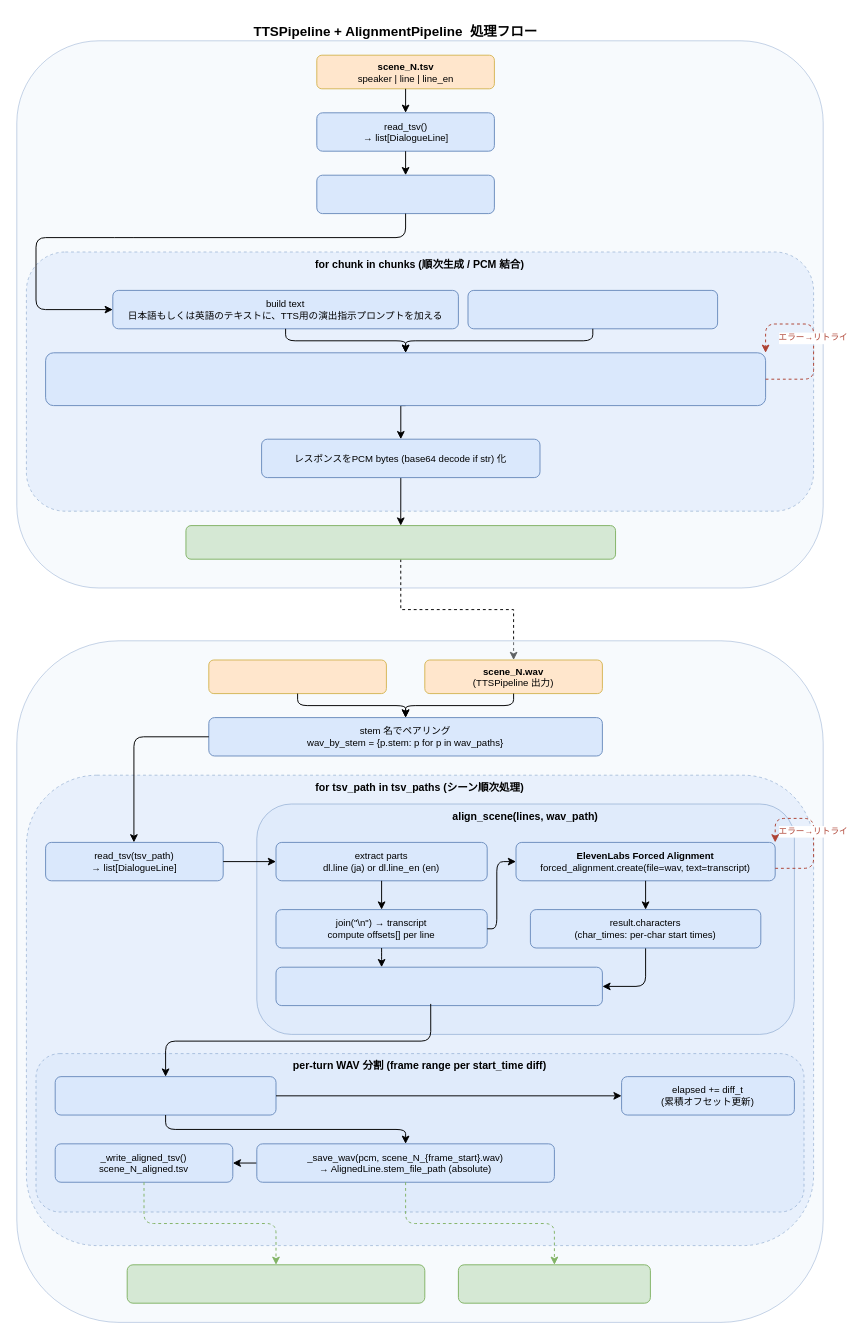
Image size: 866x1339. Some labels were removed from this diagram. The centre of each missing label's shape, as x and y in pixels:
_build_speech_config() 設定ファイルから各話者の音声設定を決める: point 592,309
chunk_max_bytes 上限でバイト分割: point 405,194
frame_start = int(sr × elapsed) numframes = int(sr × diff_t): point 165,1095
Gemini generate_content: point 405,379
offsets[i] → char_times[offset].start → AlignedLine(start_time=...) × N: point 438,986
scene_N.tsv: point 297,676
scene_N.wav 1シーン分の音声データとしてchunkを結合・ファイルに書き出し / PCM 24kHz 16bit mono: point 400,542
scene_N_aligned.tsv speaker | line | line_en | start_time | stem_file_path: point 275,1283
scene_N_{offset}.wav per-turn split WAV: point 553,1283
